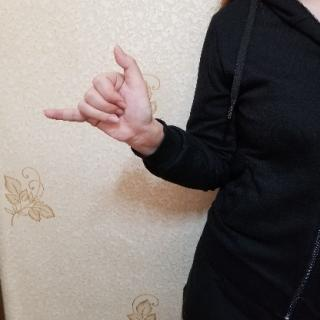YA: (42, 44, 162, 149)
